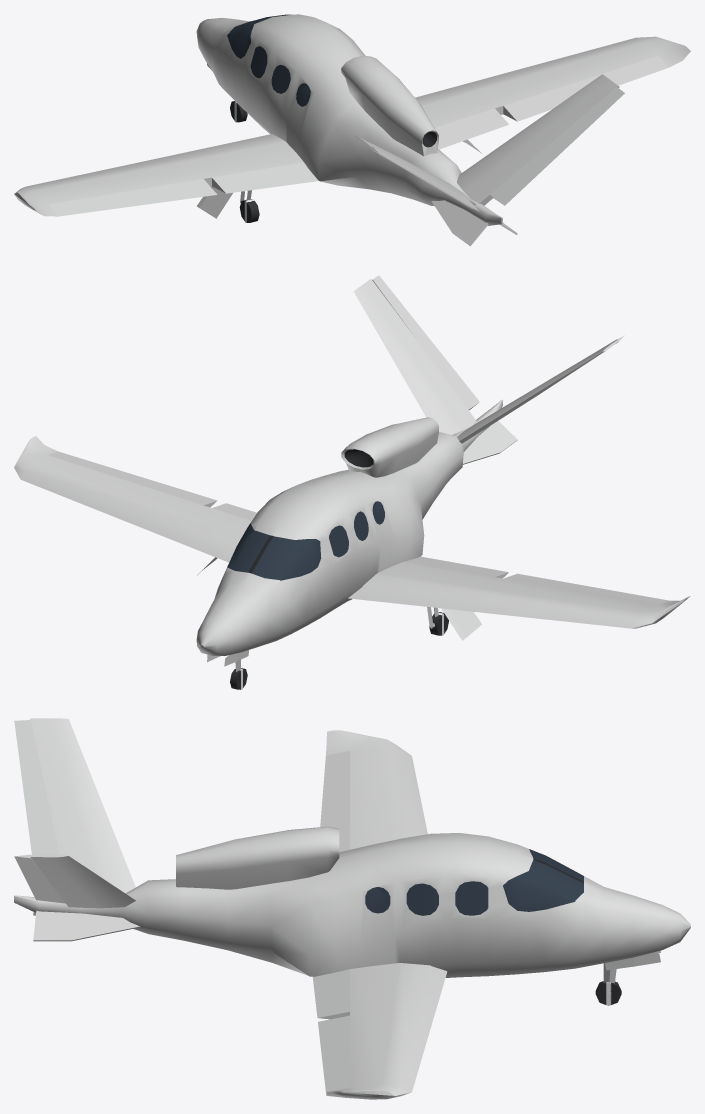
File: Cirrus_Vision_Jet_LOD3.glb
3 renders of one model, top to bottom at view 1: azimuth 30°, elevation 25°; view 2: azimuth 150°, elevation 25°; view 3: azimuth 270°, elevation 25°, orthographic. The views are drawn at different scales.
Parts seen in each view (by area): view 1: Fuselage, Wing_Left, Wing_Right, VTail_Right, Nacelle, Aileron_Left, Ruddervator_Right, Aileron_Right, Flap_Left, Flap_Right, VTail_Left, Ruddervator_Left (+2 smaller); view 2: Fuselage, Wing_Left, Wing_Right, VTail_Right, Nacelle, Ruddervator_Right, Aileron_Right, VTail_Left, Aileron_Left, Flap_Left, BayDoor_Main_Left; view 3: Fuselage, Wing_Right, VTail_Left, Wing_Left, Nacelle, VTail_Right, Ruddervator_Left, Aileron_Left, Aileron_Right, Flap_Right, Ruddervator_Right.
Part boxes in pixels (bbox=[...]): Fuselage: bbox=[196, 14, 502, 225]; Wing_Left: bbox=[14, 134, 303, 216]; Wing_Right: bbox=[415, 36, 690, 127]; VTail_Right: bbox=[431, 74, 619, 246]; Nacelle: bbox=[341, 55, 438, 156]; Aileron_Left: bbox=[48, 179, 217, 216]; Ruddervator_Right: bbox=[490, 87, 624, 205]; Aileron_Right: bbox=[503, 55, 668, 121]; Flap_Left: bbox=[212, 162, 318, 193]; Flap_Right: bbox=[435, 108, 508, 149]; VTail_Left: bbox=[354, 135, 517, 234]; Ruddervator_Left: bbox=[371, 146, 479, 211]; Fuselage: bbox=[196, 399, 502, 655]; Wing_Left: bbox=[348, 562, 690, 628]; Wing_Right: bbox=[14, 436, 251, 562]; VTail_Right: bbox=[353, 279, 517, 464]; Nacelle: bbox=[341, 417, 438, 477]; Ruddervator_Right: bbox=[372, 275, 479, 409]; Aileron_Right: bbox=[48, 451, 217, 507]; VTail_Left: bbox=[457, 339, 619, 443]; Aileron_Left: bbox=[504, 573, 668, 604]; Flap_Left: bbox=[403, 556, 508, 578]; BayDoor_Main_Left: bbox=[441, 608, 482, 640]; Fuselage: bbox=[14, 833, 690, 977]; Wing_Right: bbox=[326, 963, 447, 1099]; VTail_Left: bbox=[30, 718, 140, 941]; Wing_Left: bbox=[326, 730, 427, 849]; Nacelle: bbox=[176, 826, 339, 889]; VTail_Right: bbox=[30, 854, 135, 915]; Ruddervator_Left: bbox=[14, 720, 59, 854]; Aileron_Left: bbox=[320, 751, 349, 851]; Aileron_Right: bbox=[318, 1015, 349, 1091]; Flap_Right: bbox=[312, 969, 349, 1019]; Ruddervator_Right: bbox=[14, 854, 65, 903].
Bounding box in the file's own units: 11.8 × 3.32 × 9.36.
6 materials, 1 textured.
